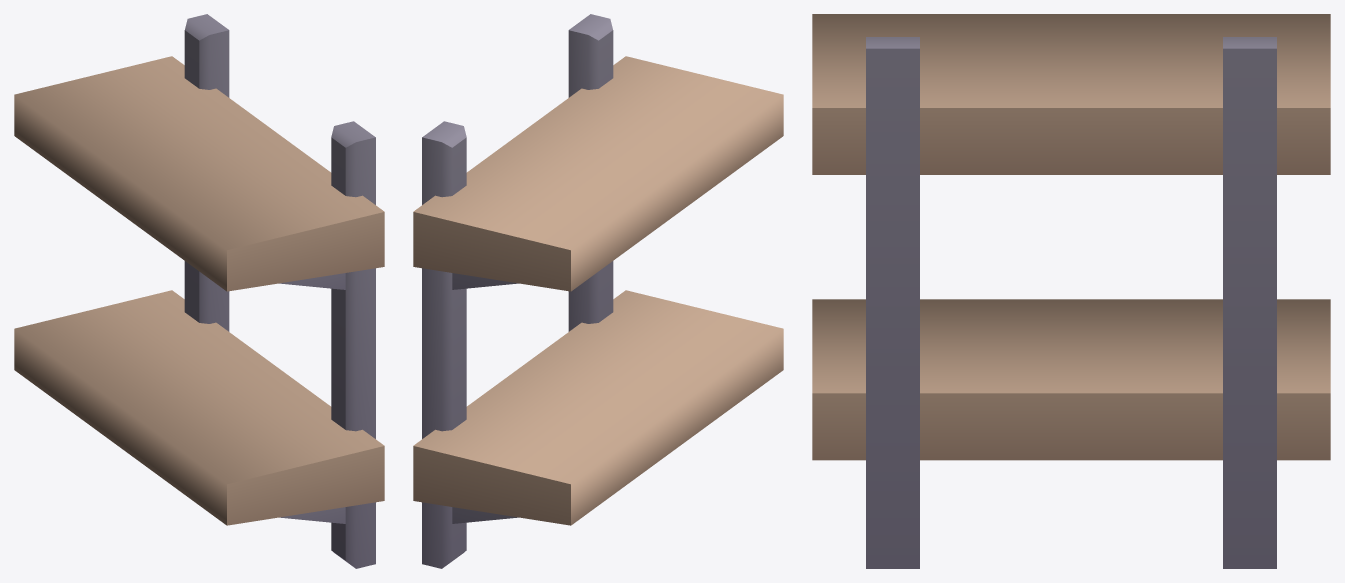
The model's file is shelf-rail-short (%wall)_0.glb.
3 views of the same model, side by side, from view 1: azimuth 30°, elevation 25°; view 2: azimuth 150°, elevation 25°; view 3: azimuth 270°, elevation 25° (orthographic). The views are drawn at different scales.
Visible parts, largest first — view 1: shelf-rail-short (%wall); view 2: shelf-rail-short (%wall); view 3: shelf-rail-short (%wall).
Boxes of the visible parts, box(x1,y1,x2,y2) form: shelf-rail-short (%wall): box(14, 14, 384, 568); shelf-rail-short (%wall): box(413, 14, 783, 568); shelf-rail-short (%wall): box(812, 14, 1330, 568).
Bounding box in the file's own units: 0.325 × 0.775 × 0.7.
